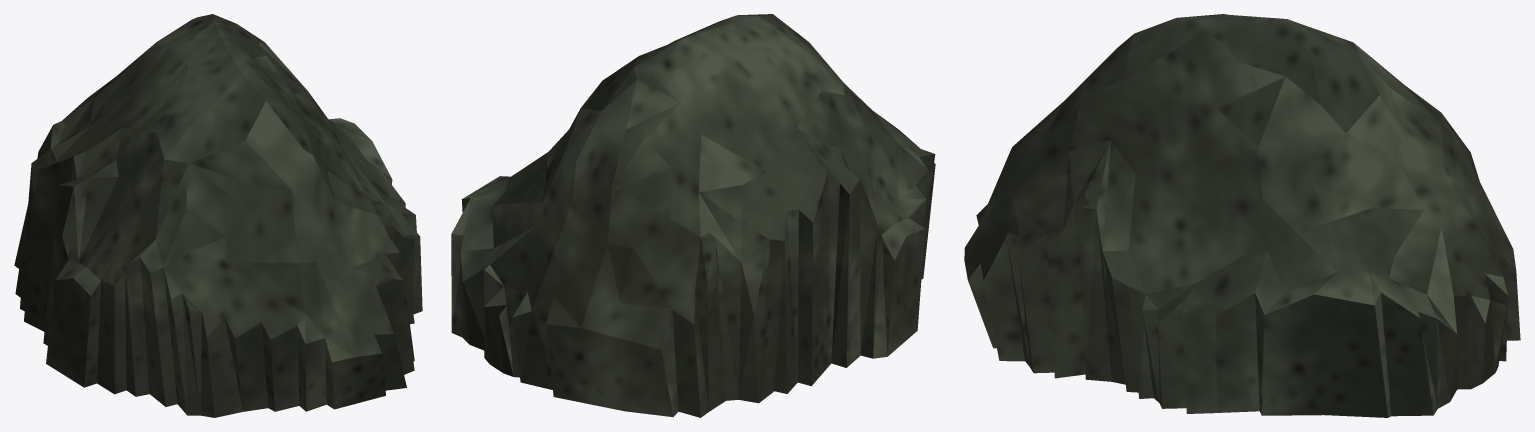
The model's file is CRERock07.glb.
3 renders of one model, left to right at view 1: azimuth 30°, elevation 25°; view 2: azimuth 150°, elevation 25°; view 3: azimuth 270°, elevation 25°, orthographic. The views are drawn at different scales.
Visible parts, largest first — view 1: CRERock07_rock; view 2: CRERock07_rock; view 3: CRERock07_rock.
Boxes of the visible parts, x1,y1,x2,y2 form: CRERock07_rock: (14, 14, 422, 417); CRERock07_rock: (451, 14, 935, 417); CRERock07_rock: (964, 14, 1520, 417).
Bounding box in the file's own units: 2.06 × 1.53 × 2.48.
1 material, 1 textured.
